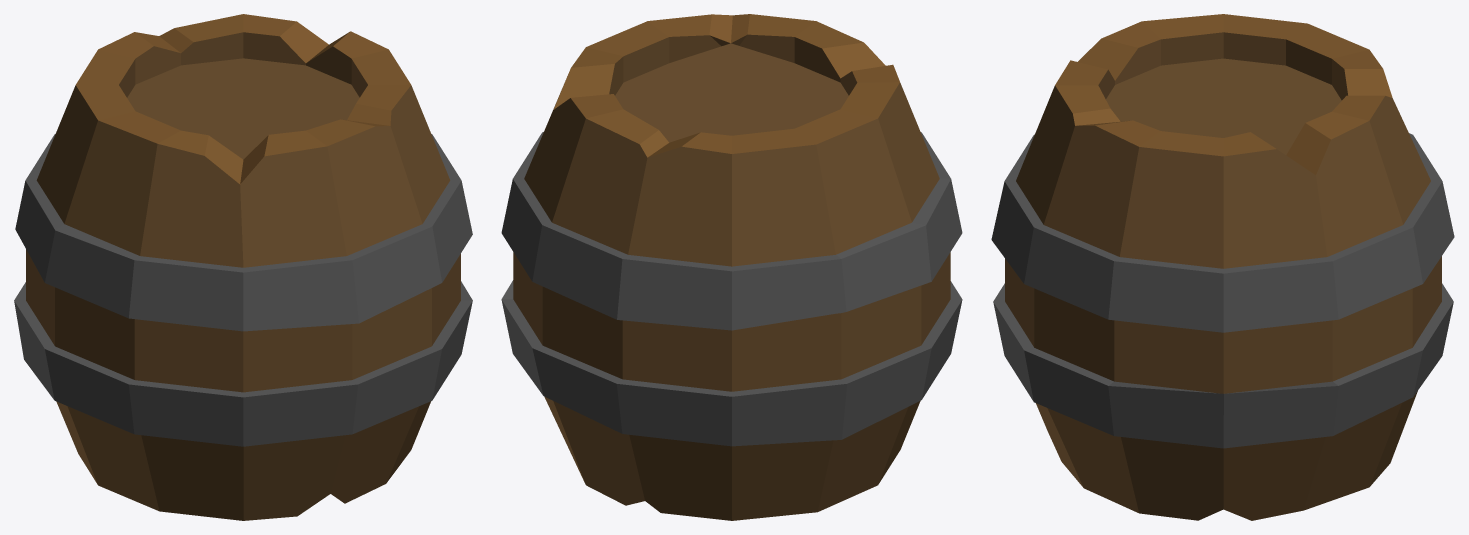
The model's file is Barrel_Model.fbx.
3 views of the same model, side by side, from view 1: azimuth 30°, elevation 25°; view 2: azimuth 150°, elevation 25°; view 3: azimuth 270°, elevation 25° (orthographic).
Parts seen in each view (by area): view 1: Barrel.001; view 2: Barrel.001; view 3: Barrel.001.
Part boxes in pixels (x1,y1,x2,y2): Barrel.001: [14, 14, 472, 520]; Barrel.001: [501, 14, 962, 520]; Barrel.001: [991, 14, 1454, 520].
Size of the model in its own units: 113 by 100 by 113.
